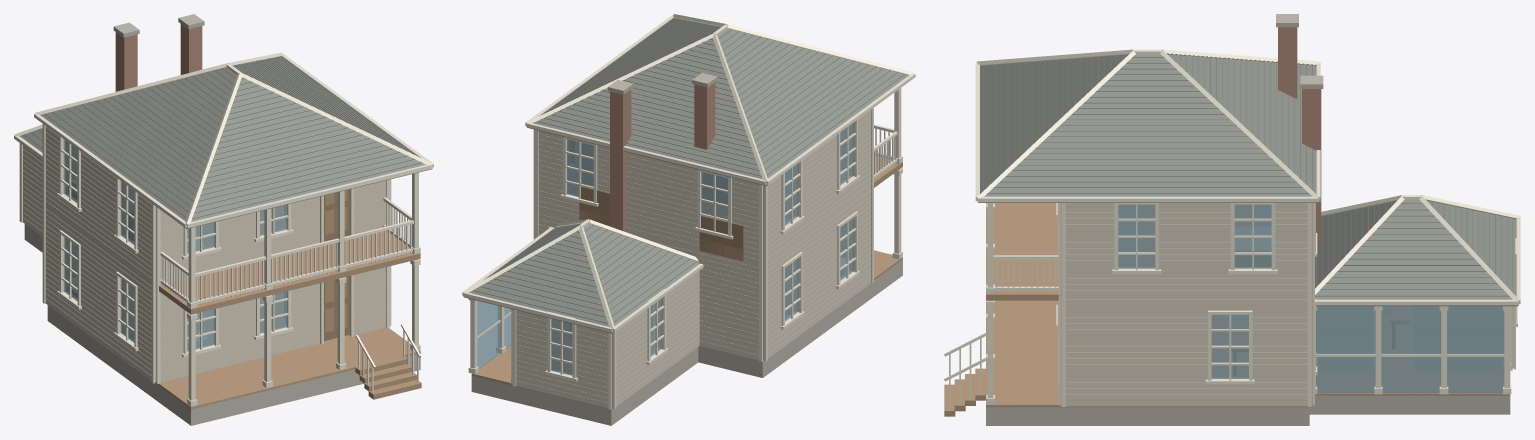
File: yates-base.glb
3 renders of one model, left to right at view 1: azimuth 30°, elevation 25°; view 2: azimuth 150°, elevation 25°; view 3: azimuth 270°, elevation 25°, orthographic. The views are drawn at different scales.
Bounding box in the file's own units: 7.91 × 8.61 × 14.08.
